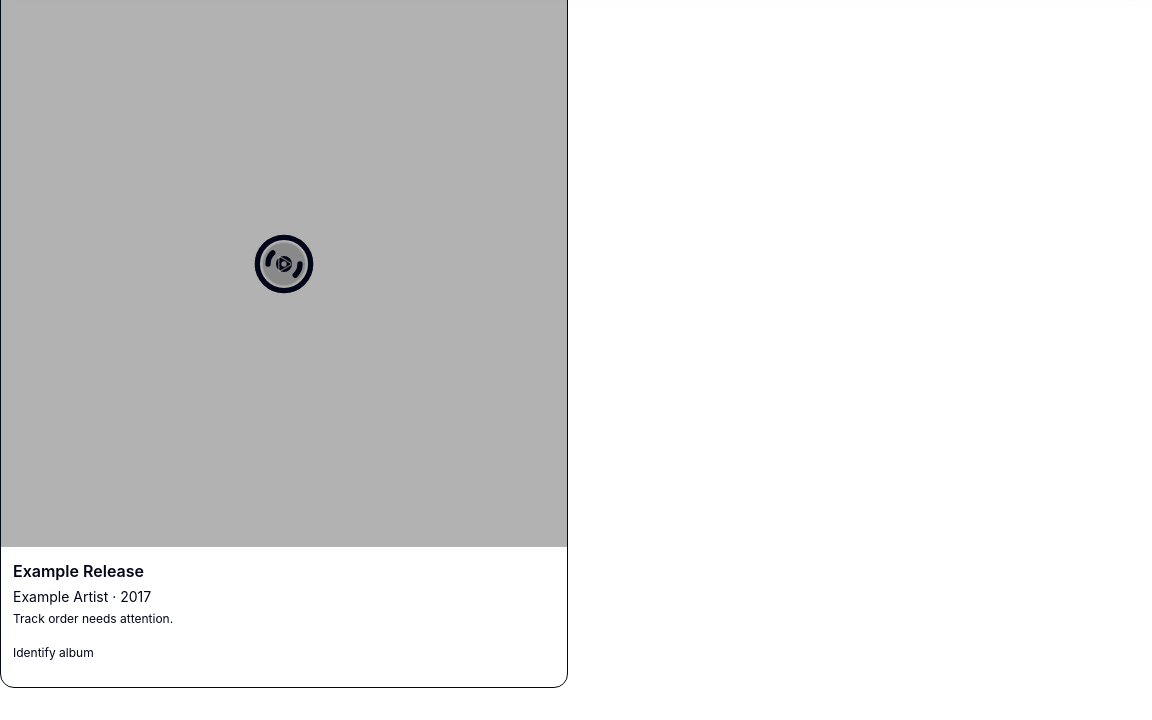
Test: release candidates expose edition, format and catalogue details without approving
(page scrolled)
Click the button "Identify album": (53, 653) 13,631 -> 94,675
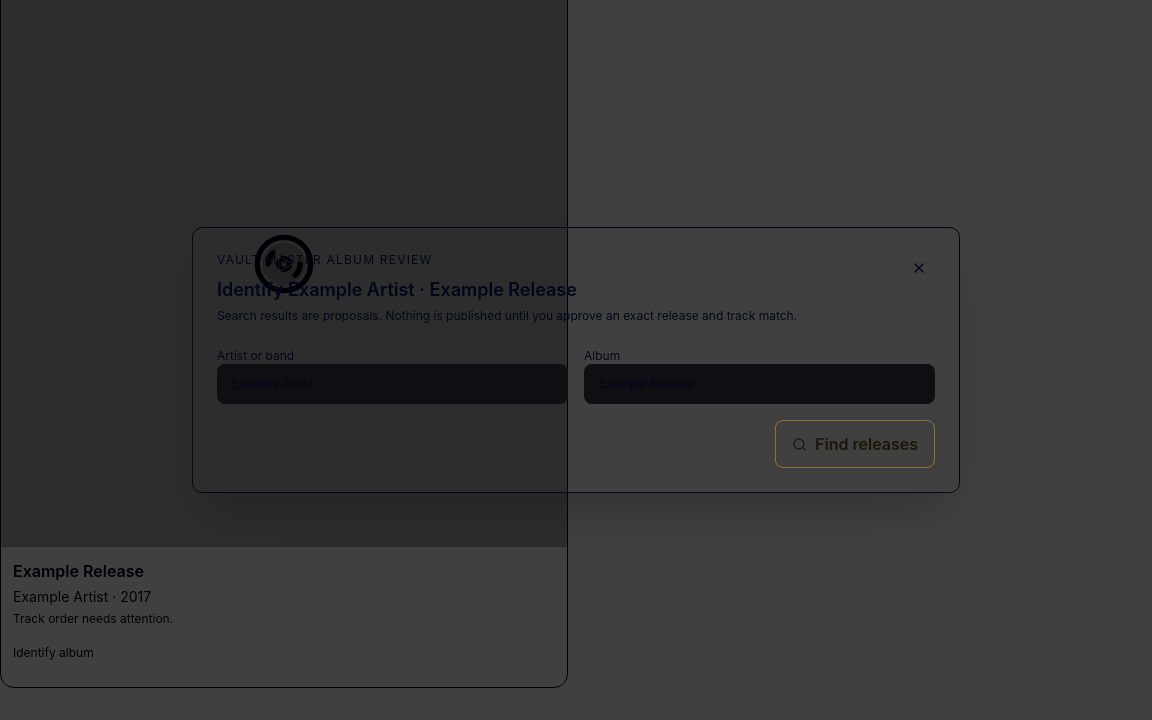
Now the button "Find releases" is shown
Click the button "Find releases": (855, 444) 775,420 -> 935,468
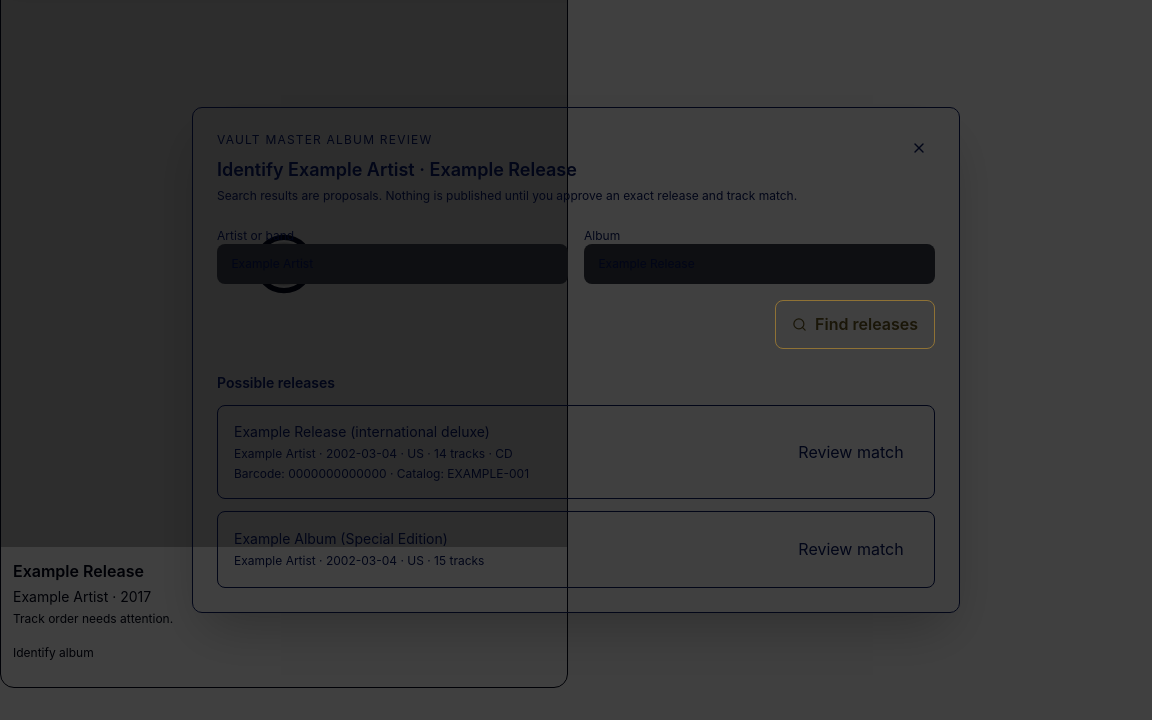
Now the text "Example Release (international deluxe)" is shown, box 234,422 -> 529,442
Now the text "14 tracks · CD" is shown, box 234,446 -> 529,462
Now the text "Barcode: 0000000000000" is shown, box 234,466 -> 387,481
